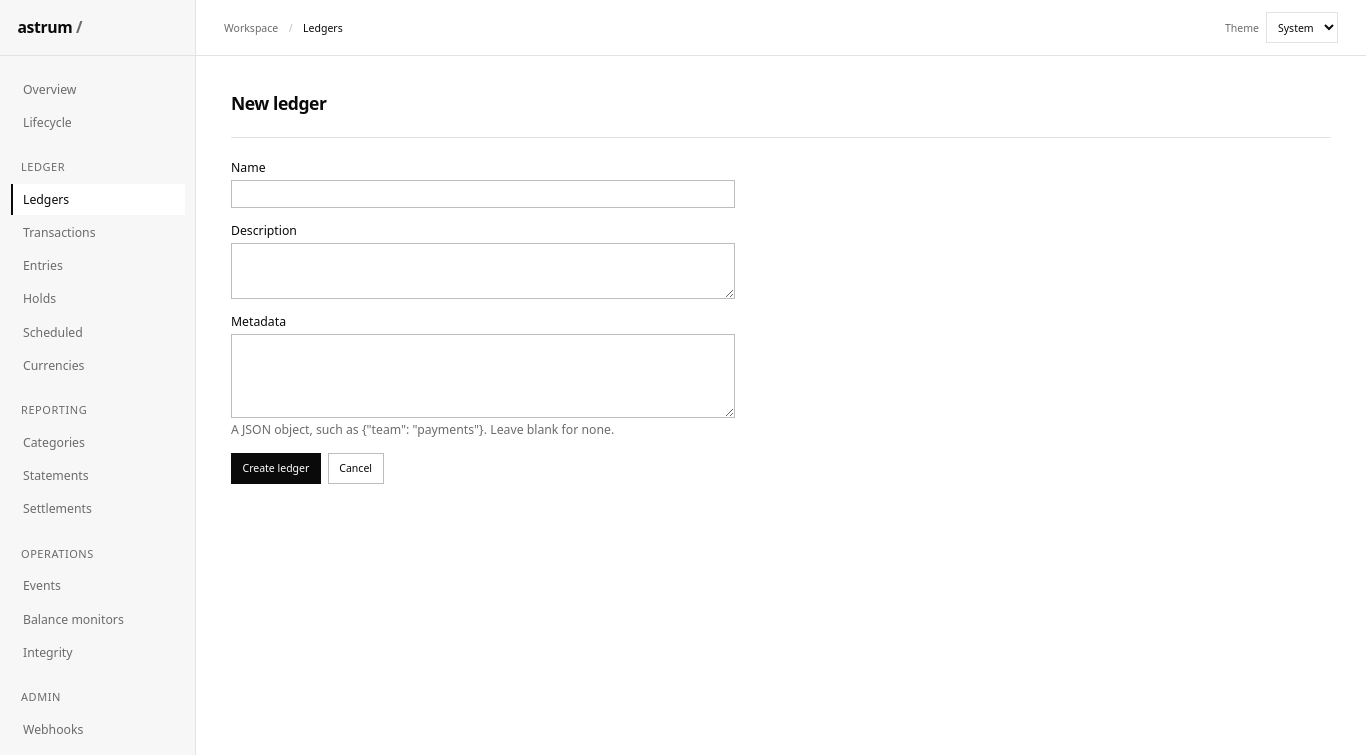
forms › shows a server failure in the error boundary instead of the form
Type "Wallets" into the field labelled "Name" at point(483, 194), box left=231, top=180, right=735, bottom=208
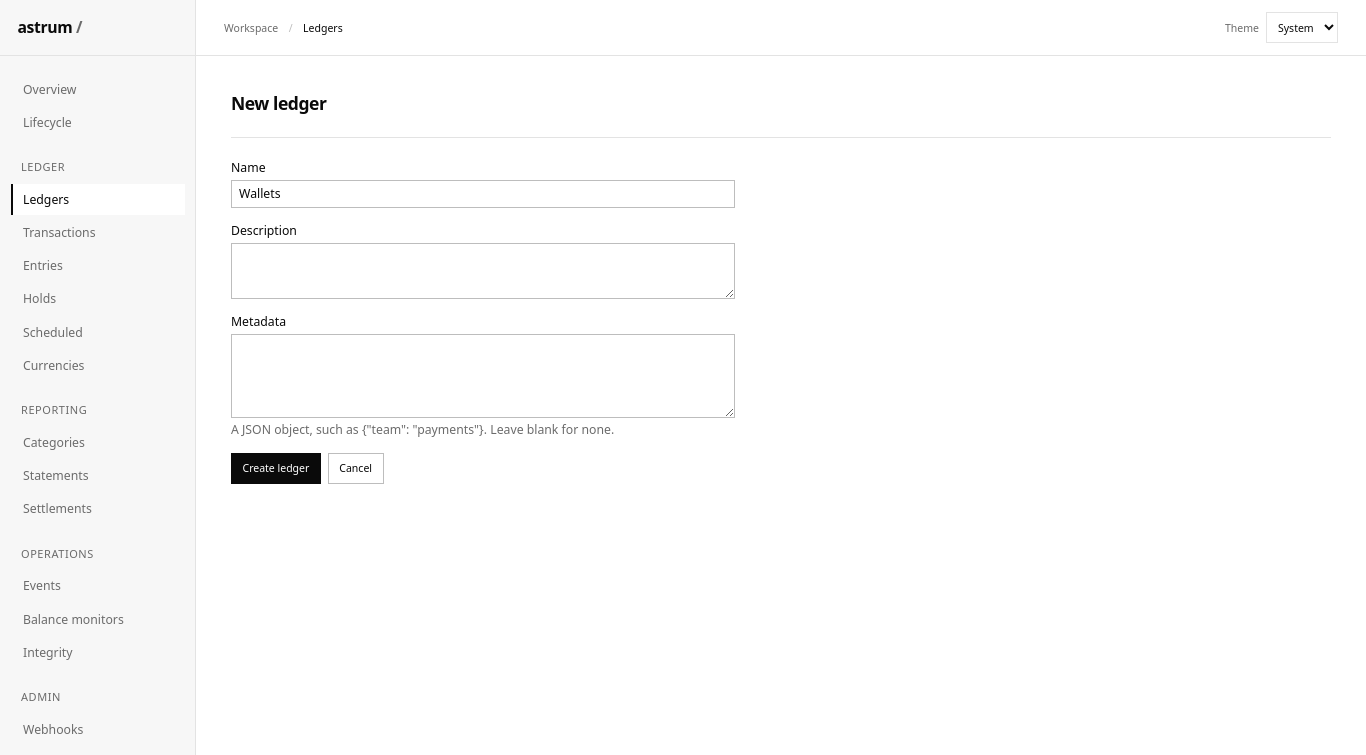
Click the button "Create ledger" at point(276, 468), box left=231, top=452, right=321, bottom=484
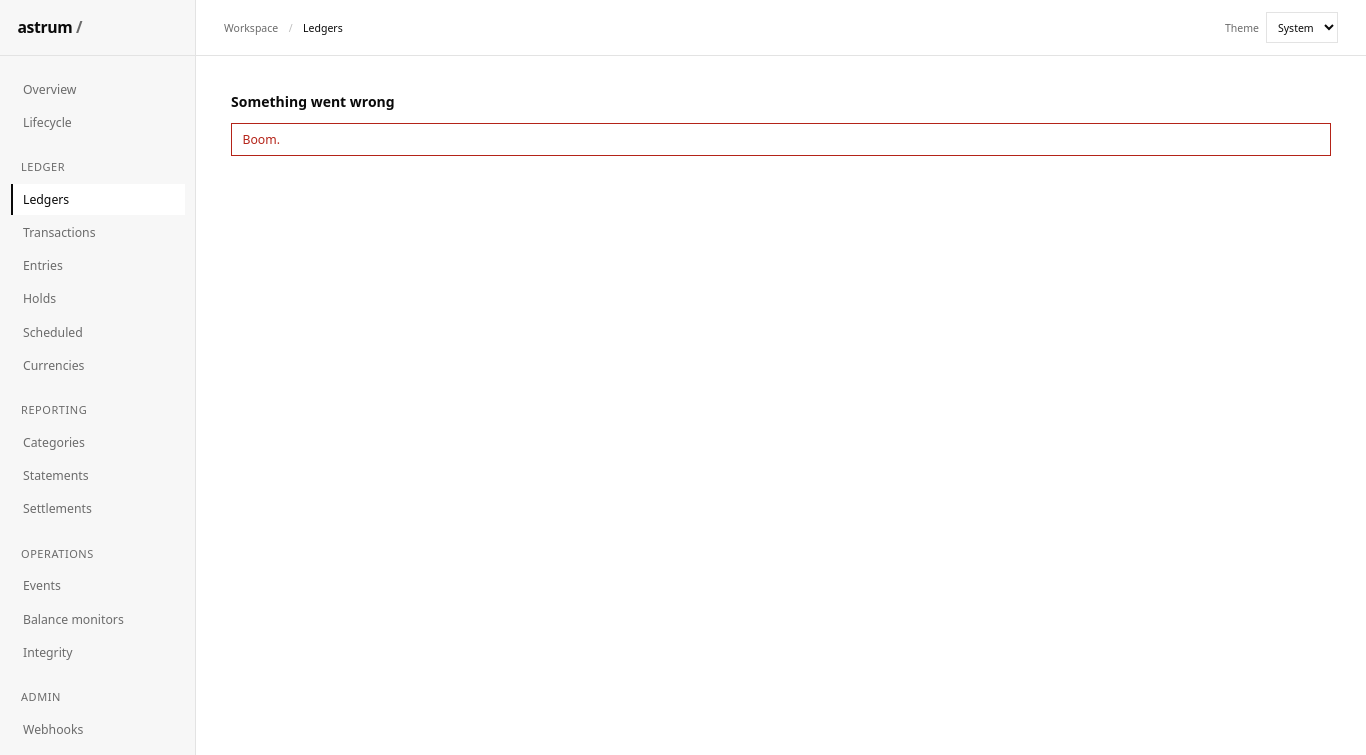
Expected: the heading "Something went wrong" is shown, left=231, top=92, right=395, bottom=111
Expected: the text "Boom." is shown, left=231, top=122, right=1331, bottom=156
